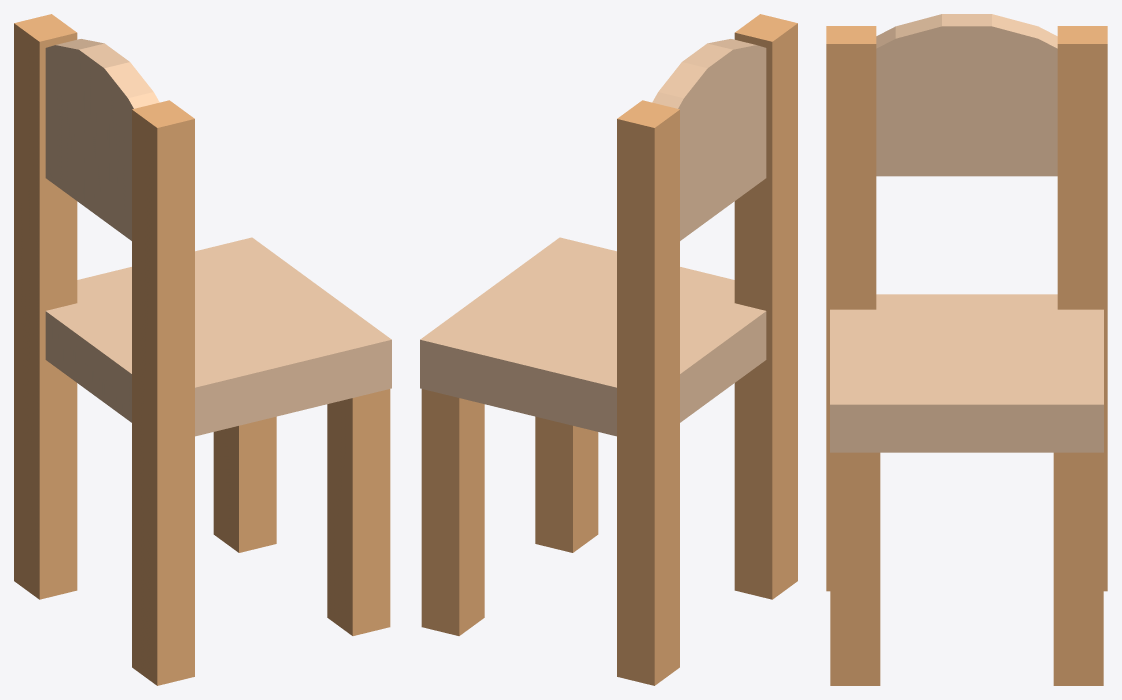
The model's file is chair.glb.
3 renders of one model, left to right at view 1: azimuth 30°, elevation 25°; view 2: azimuth 150°, elevation 25°; view 3: azimuth 270°, elevation 25°, orthographic.
Visible parts, largest first — view 1: Chair.001; view 2: Chair.001; view 3: Chair.001.
Part boxes in pixels (<box>): Chair.001: <box>14,14,391,685</box>; Chair.001: <box>420,14,797,685</box>; Chair.001: <box>826,14,1107,685</box>.
Size of the model in its own units: 0.8033 by 1.86 by 0.8433.
